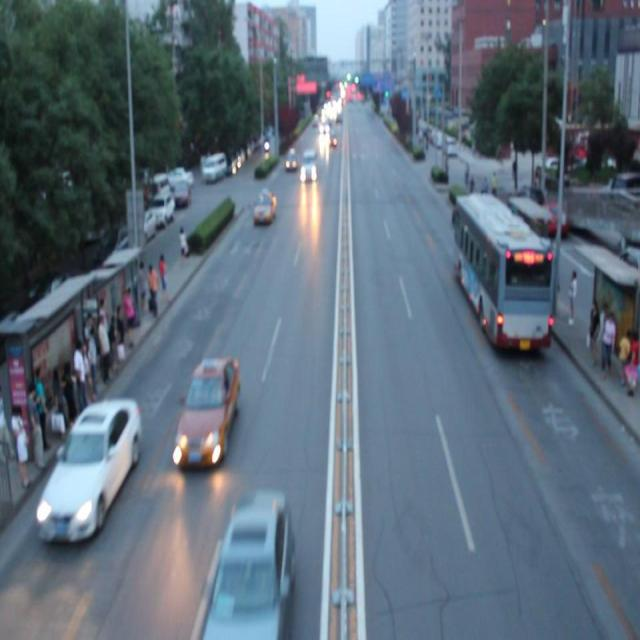car: (35, 394, 144, 543), (206, 486, 292, 640), (173, 350, 242, 472), (252, 186, 277, 229), (281, 142, 298, 174)
truck: (302, 148, 317, 184)
van: (450, 188, 551, 362)
